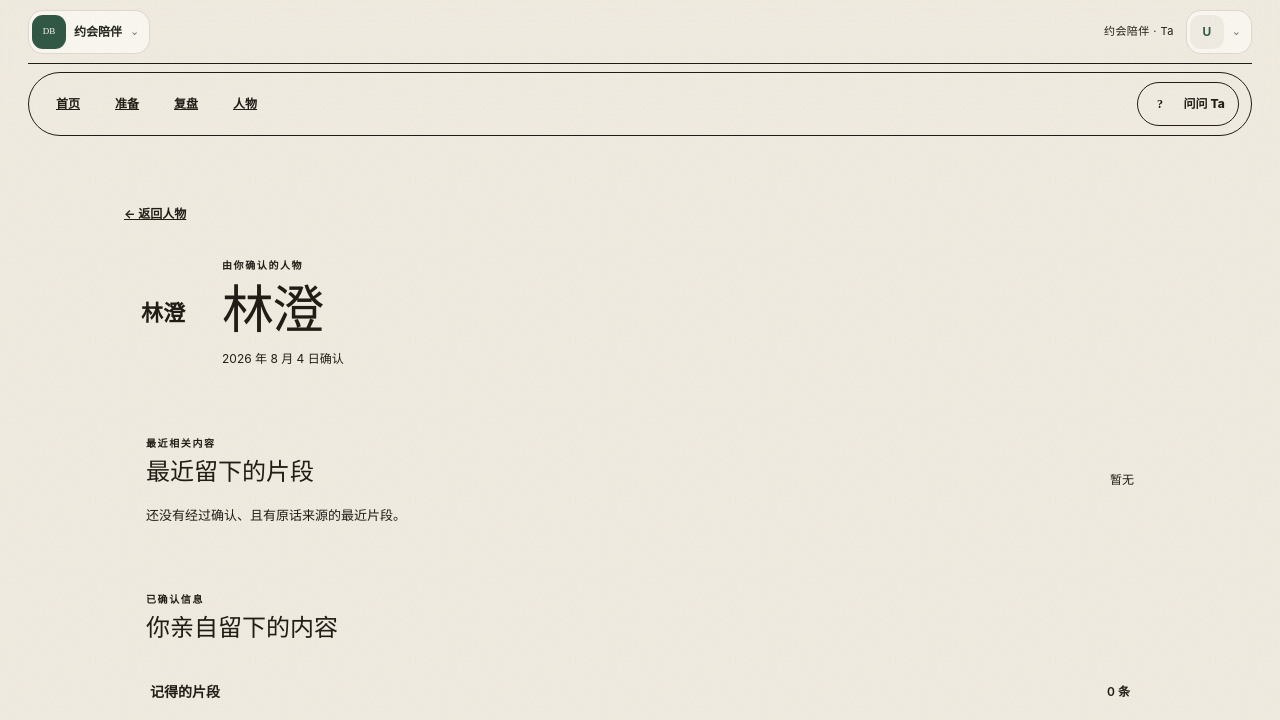
Test: DateCompanionShell › keeps proactive inference out of the Person record while reusing its editable QA suggestion
Expected: the heading "林澄" is shown, [222,282,322,339]
Click the button "? 问问 Ta". click: (1188, 104)
box: [1138,82,1239,126]
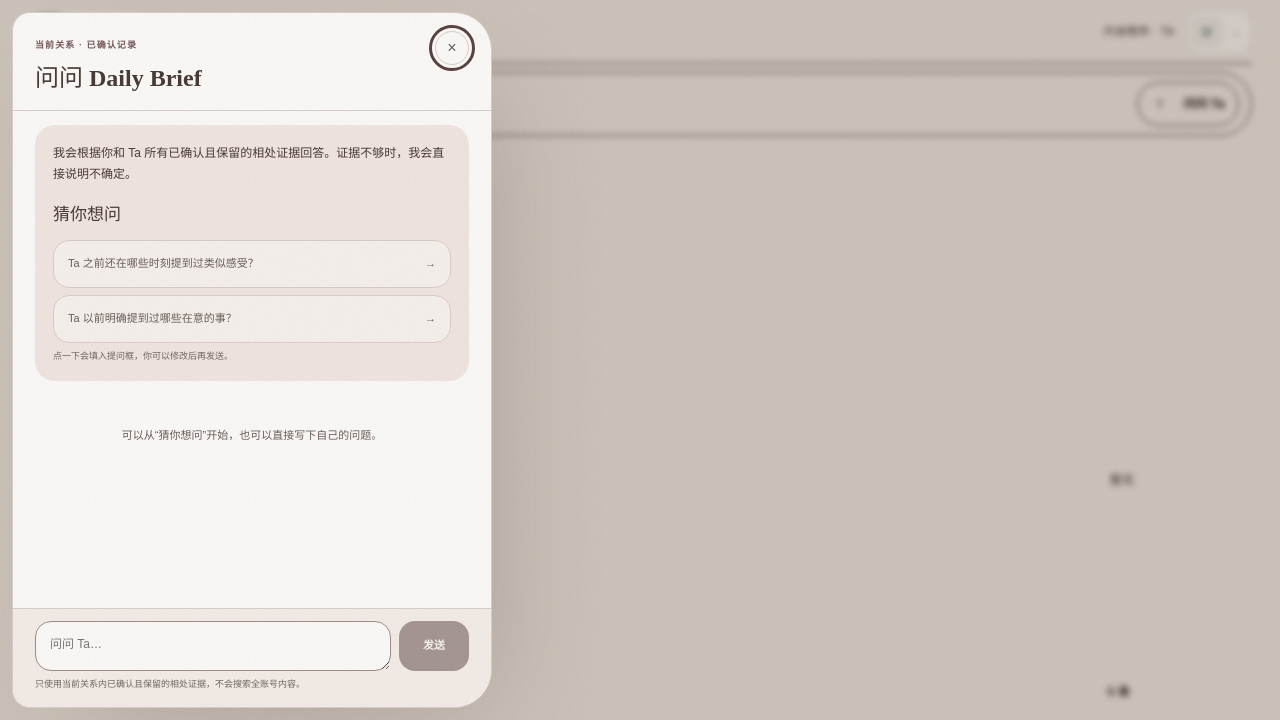
Click the button "Ta 之前还在哪些时刻提到过类似感受？ →". click: (252, 264)
box: [53,240,451,288]
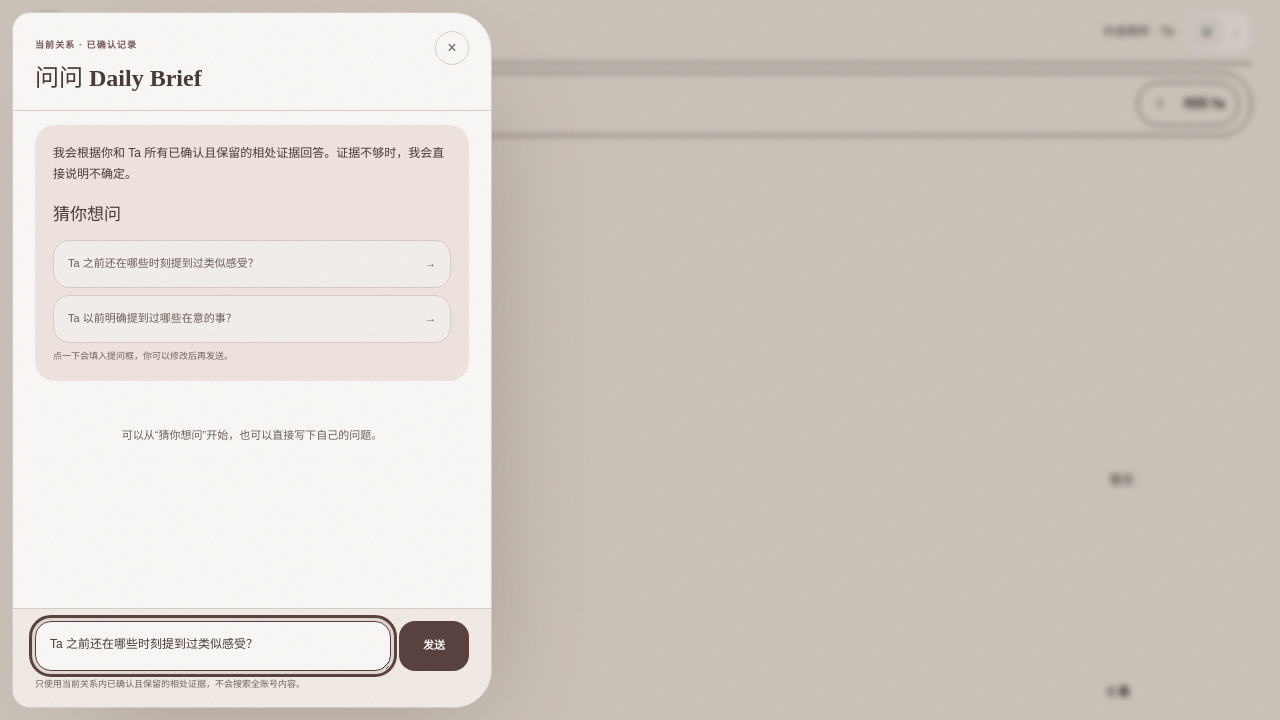
Expected: the text box named "向 Ta 的相处记录提问" holds "Ta 之前还在哪些时刻提到过类似感受？", [35,620,391,670]
